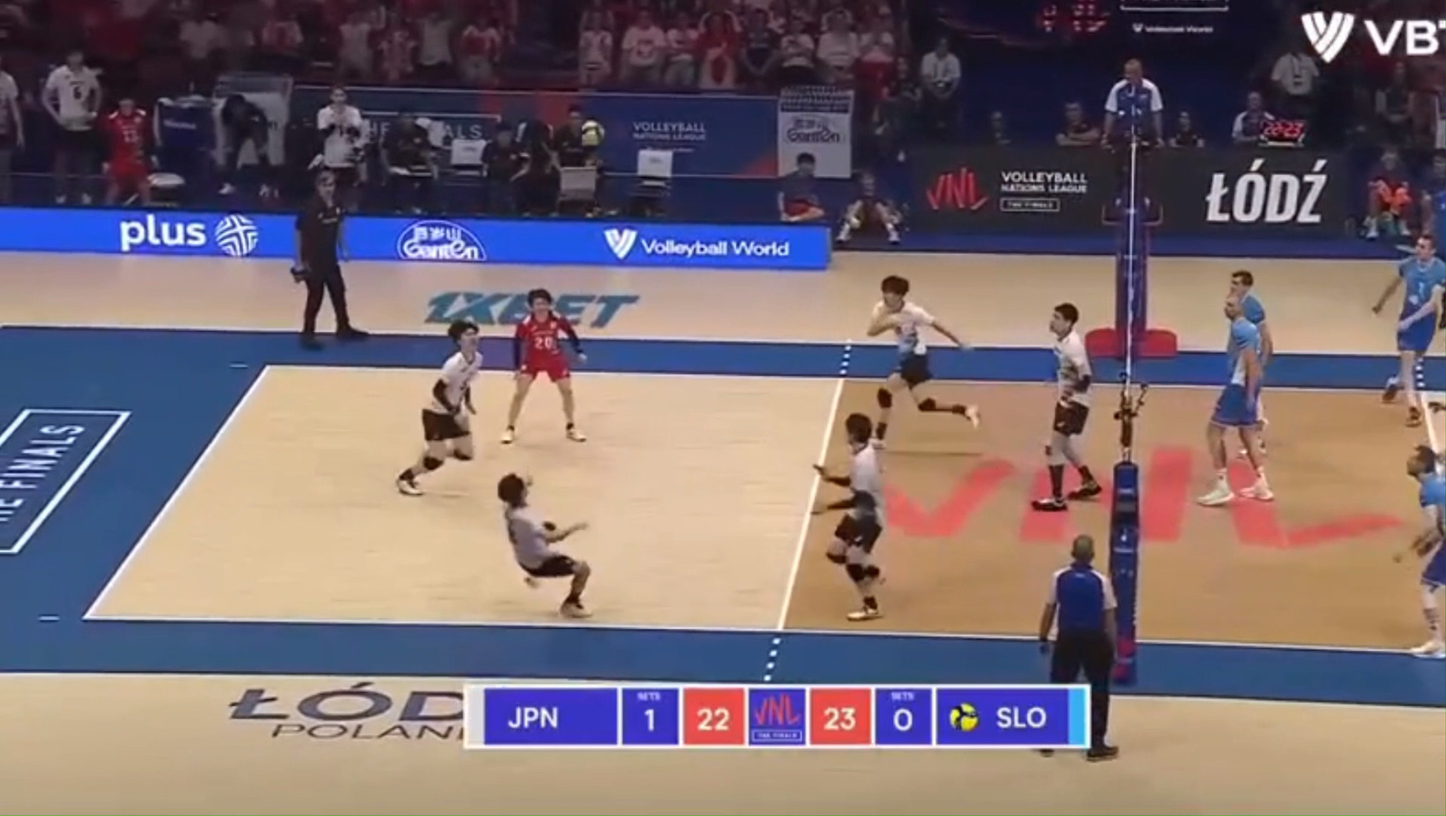ball: (579, 119, 605, 148)
player: (1197, 294, 1273, 506), (1373, 234, 1445, 426), (1407, 446, 1445, 658), (1230, 270, 1273, 366)
player 1: (867, 274, 979, 448), (397, 321, 482, 494), (1031, 302, 1101, 512), (815, 413, 883, 620), (496, 473, 590, 617), (501, 289, 586, 444)
referee: (1038, 535, 1117, 760), (291, 169, 369, 348), (1101, 59, 1163, 232)
